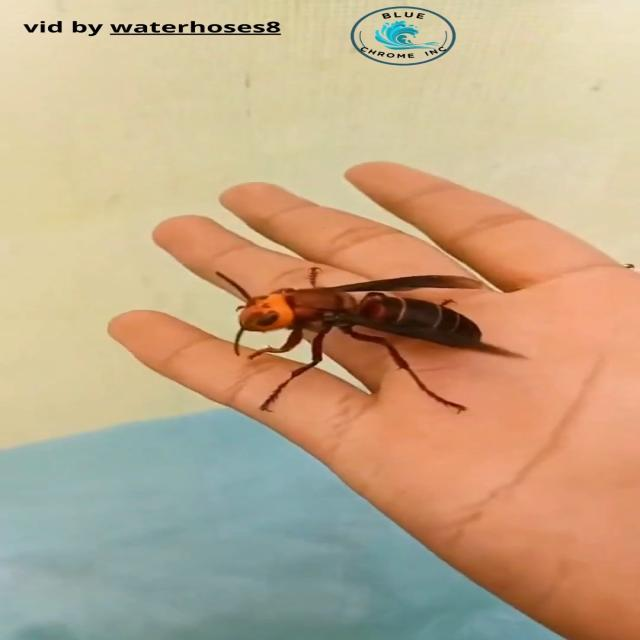Hornets: (214, 264, 534, 414)
